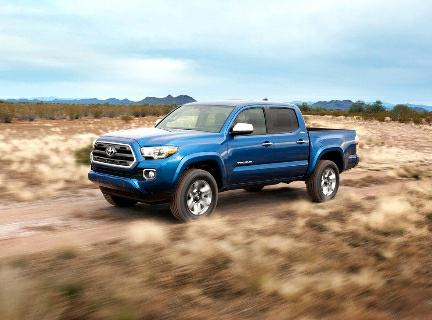丰田-Tacoma: (86, 102, 367, 224)
